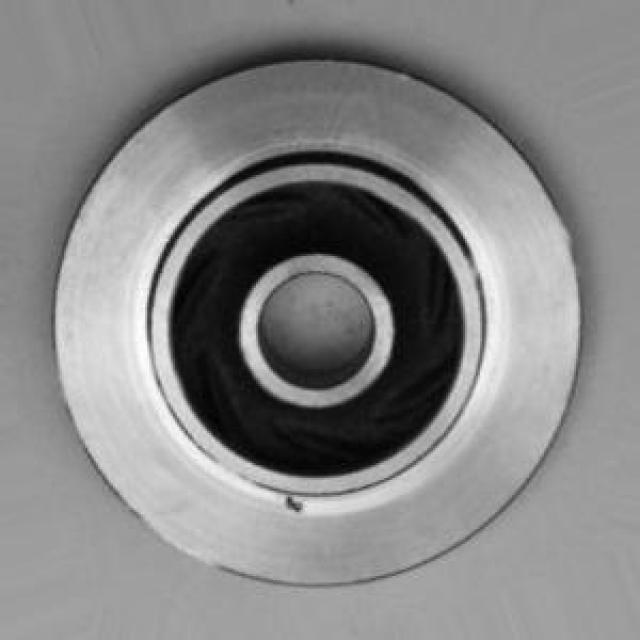Defect: (270, 489, 306, 516)
